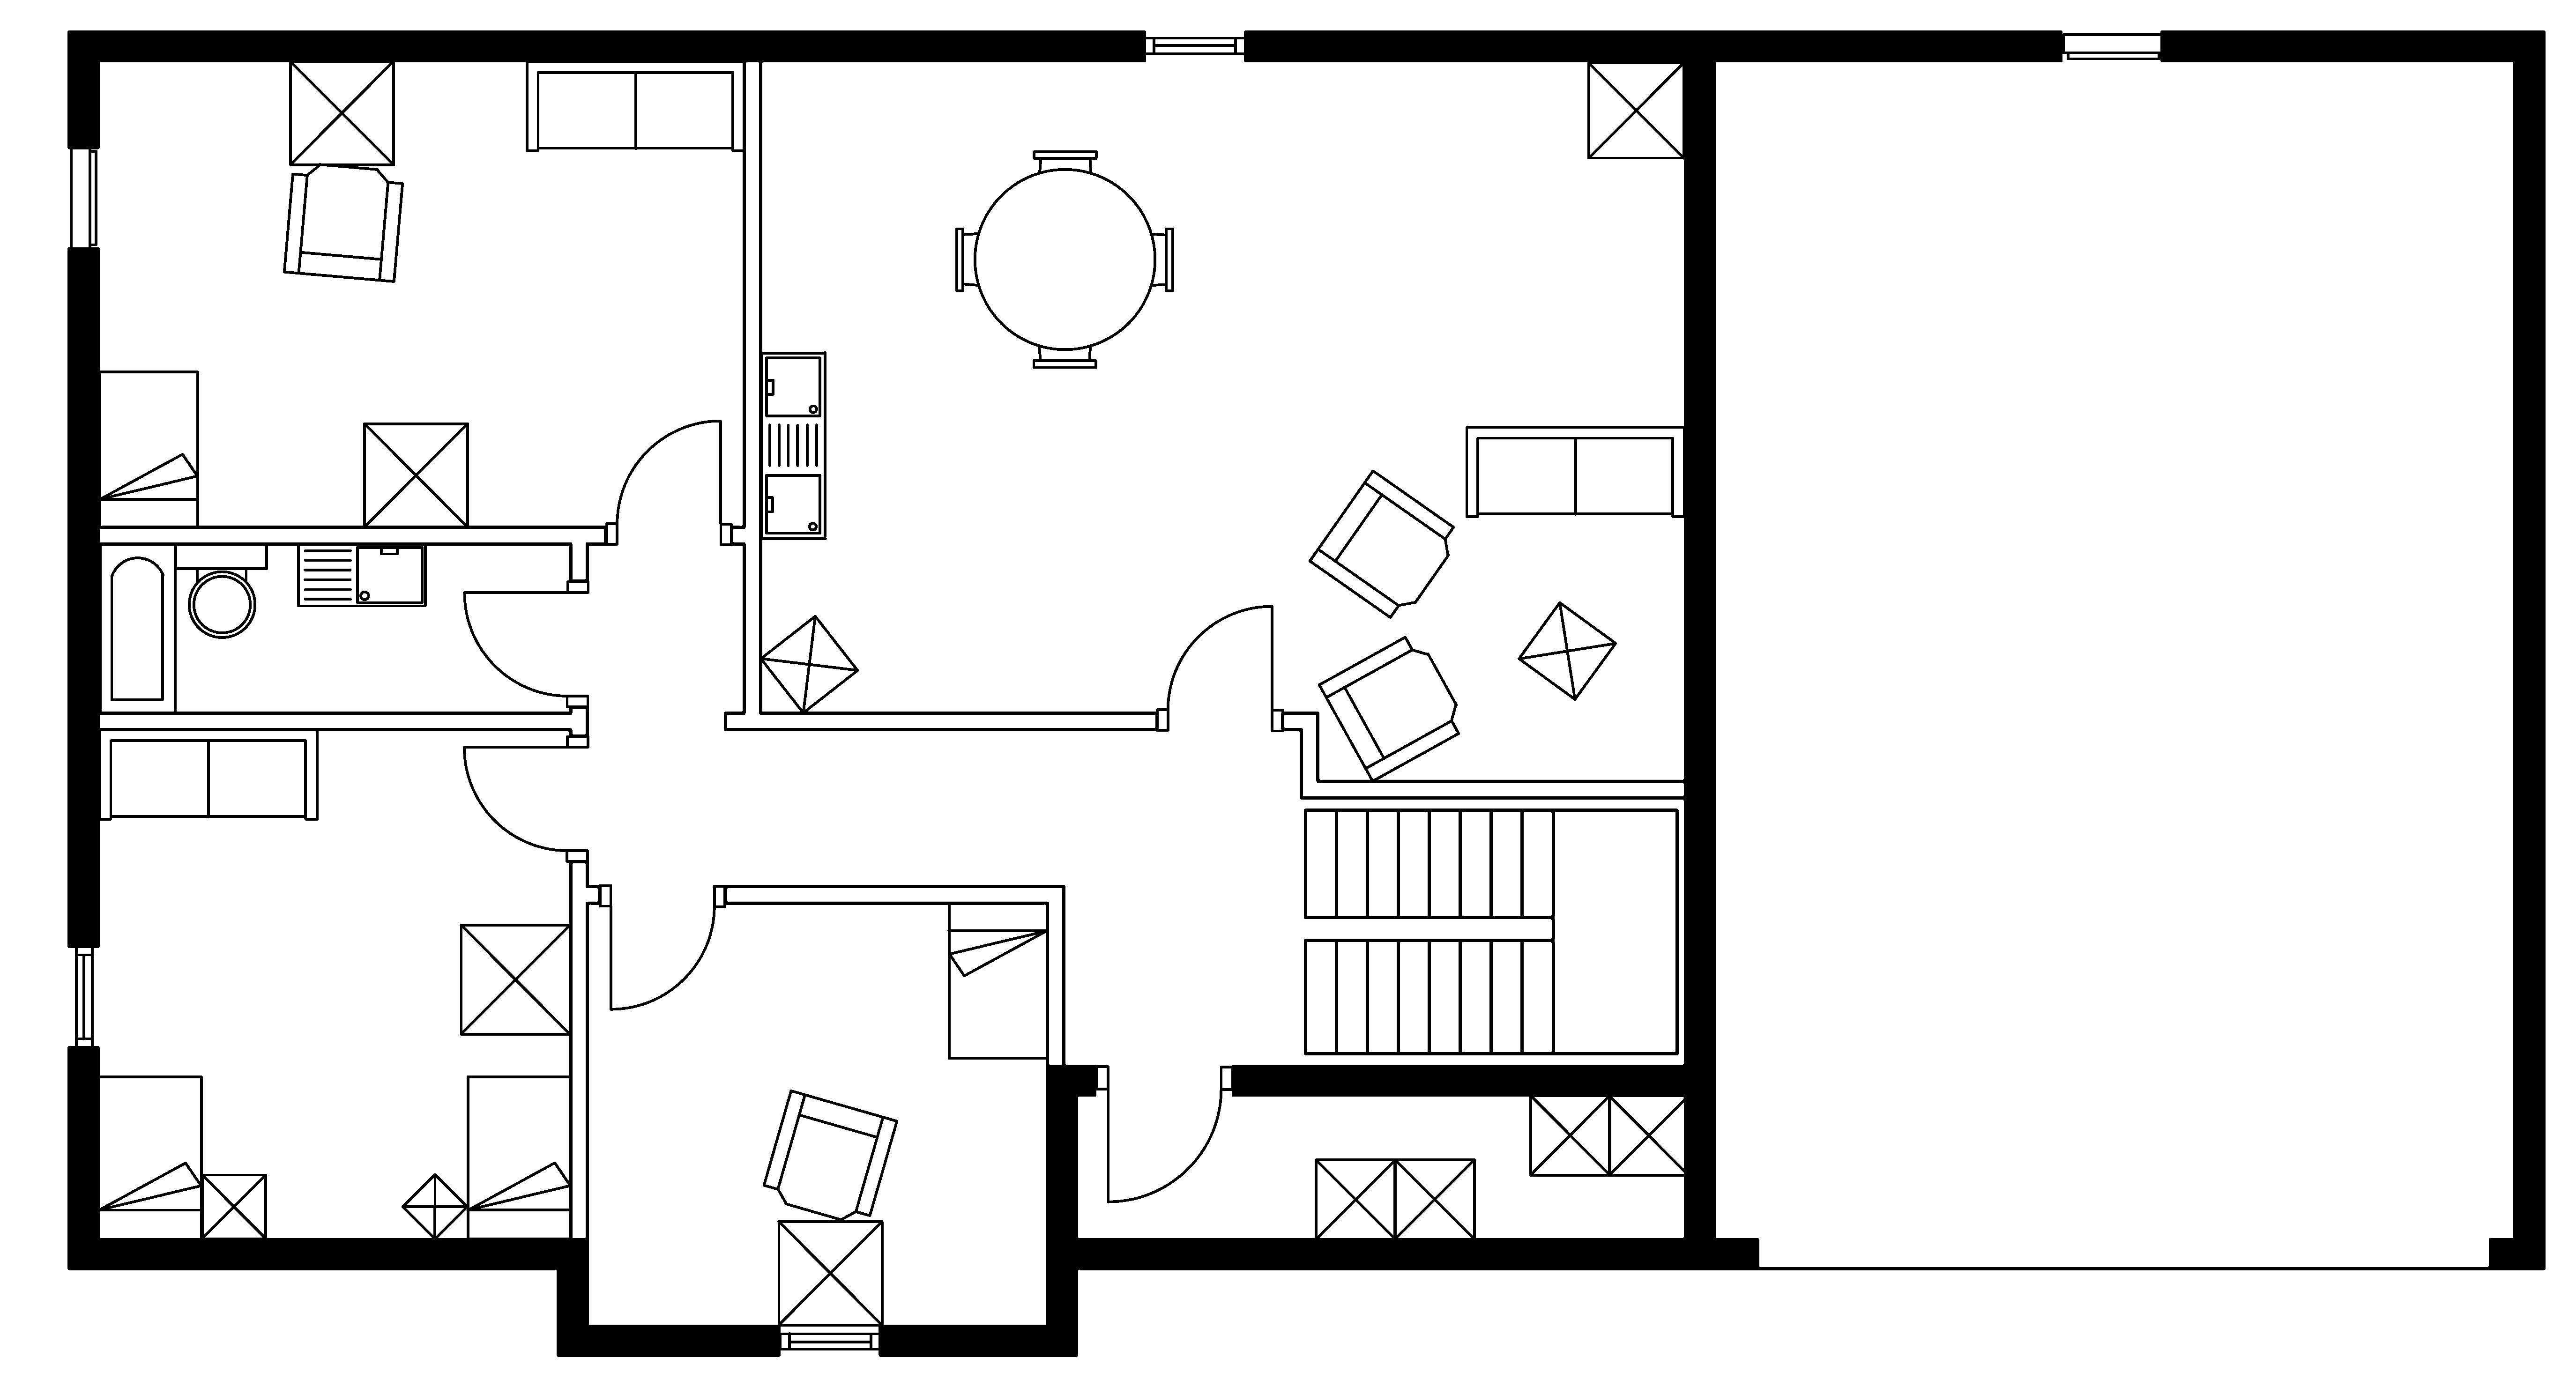armchair: (1307, 468, 1455, 620), (1317, 635, 1461, 782), (762, 1088, 899, 1221), (282, 162, 405, 284)
bed: (96, 1074, 203, 1240), (465, 1074, 572, 1240), (97, 369, 200, 530), (946, 900, 1049, 1059)
coffee_table: (458, 922, 572, 1035), (362, 422, 470, 530), (287, 58, 395, 166), (776, 1220, 883, 1327), (1517, 600, 1618, 702), (758, 613, 859, 714), (1585, 60, 1686, 161), (1527, 1093, 1613, 1177), (1314, 1156, 1397, 1240), (1392, 1156, 1476, 1240), (1607, 1093, 1691, 1177), (400, 1172, 470, 1240), (200, 1172, 268, 1240)
large_sink: (173, 541, 268, 639)
large_sofa: (1464, 425, 1686, 518), (97, 728, 319, 820), (524, 60, 746, 152)
round_table: (953, 149, 1175, 369)
sink: (296, 541, 427, 608)
tub: (97, 541, 178, 714)
twin_sink: (758, 350, 827, 540)
